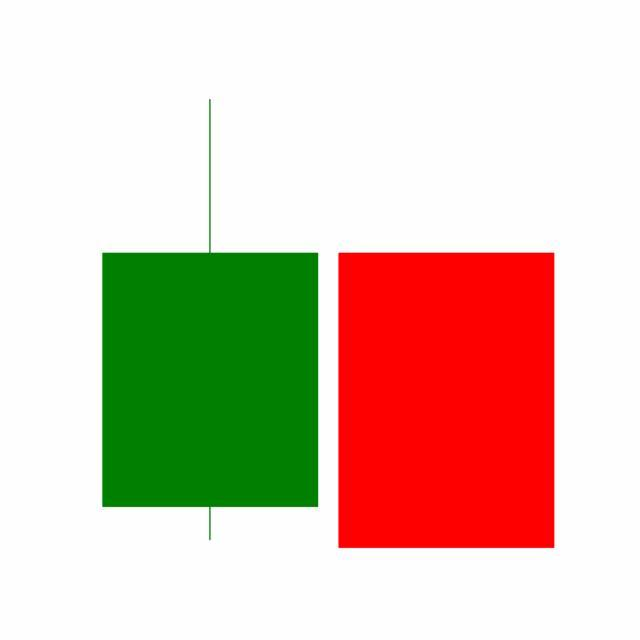Marubozu: (328, 250, 566, 551)
